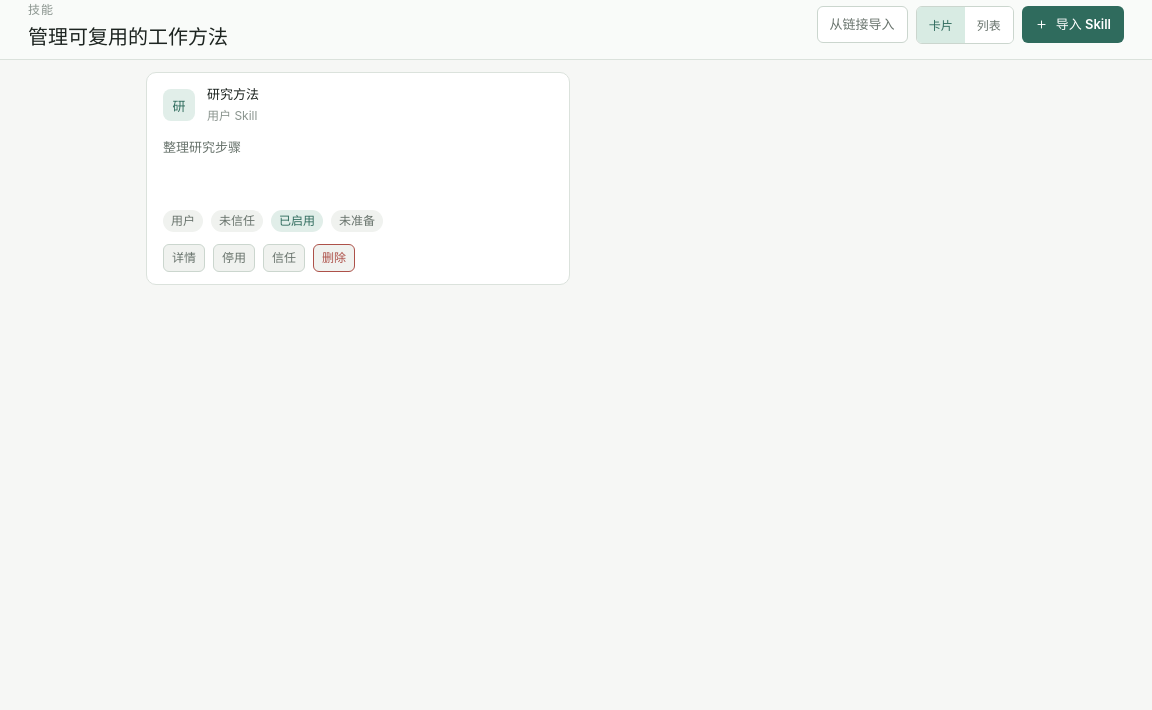
Scenario: SkillsPage › shows source, trust, enabled and environment independently
Expected: the text "研究方法" is shown, [207, 85, 259, 103]
Click the button "研 研究方法 用户 Skill 整理研究步骤".
click(179, 105)  # box [163, 85, 553, 198]
(page scrolled)
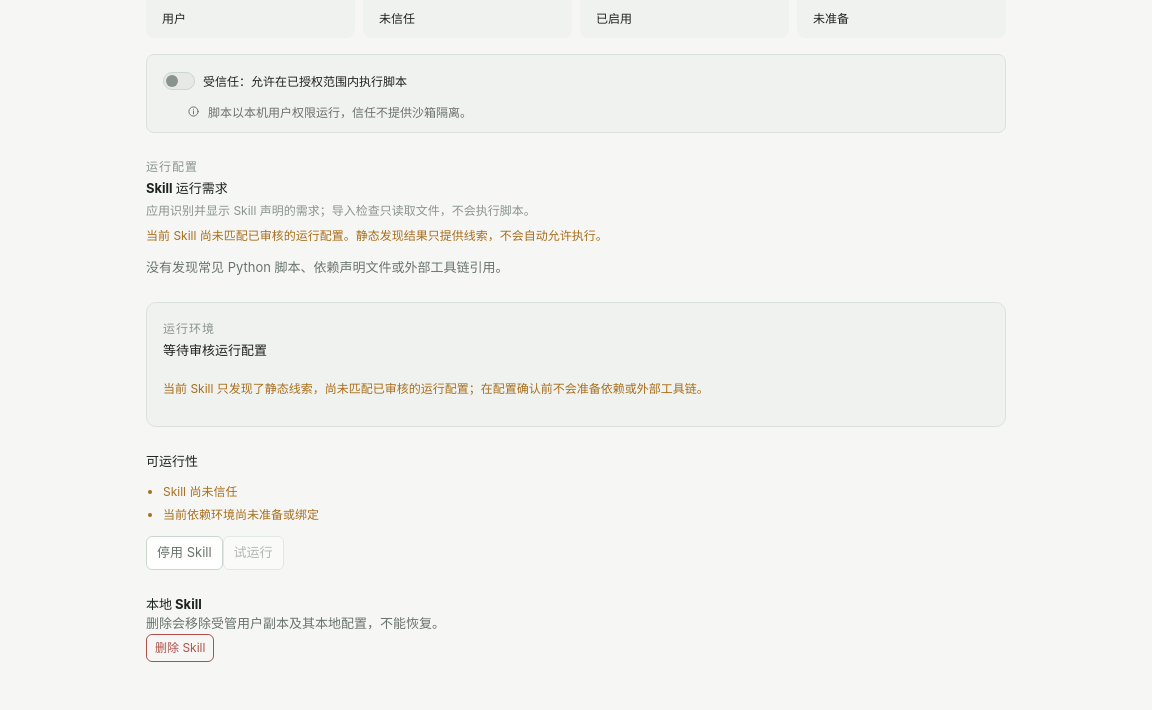
Result: the text "未信任" is shown at [379, 11, 415, 26]
Result: the text "用户" is shown at [162, 11, 186, 26]
Result: the text "未准备" is shown at [813, 11, 849, 26]
